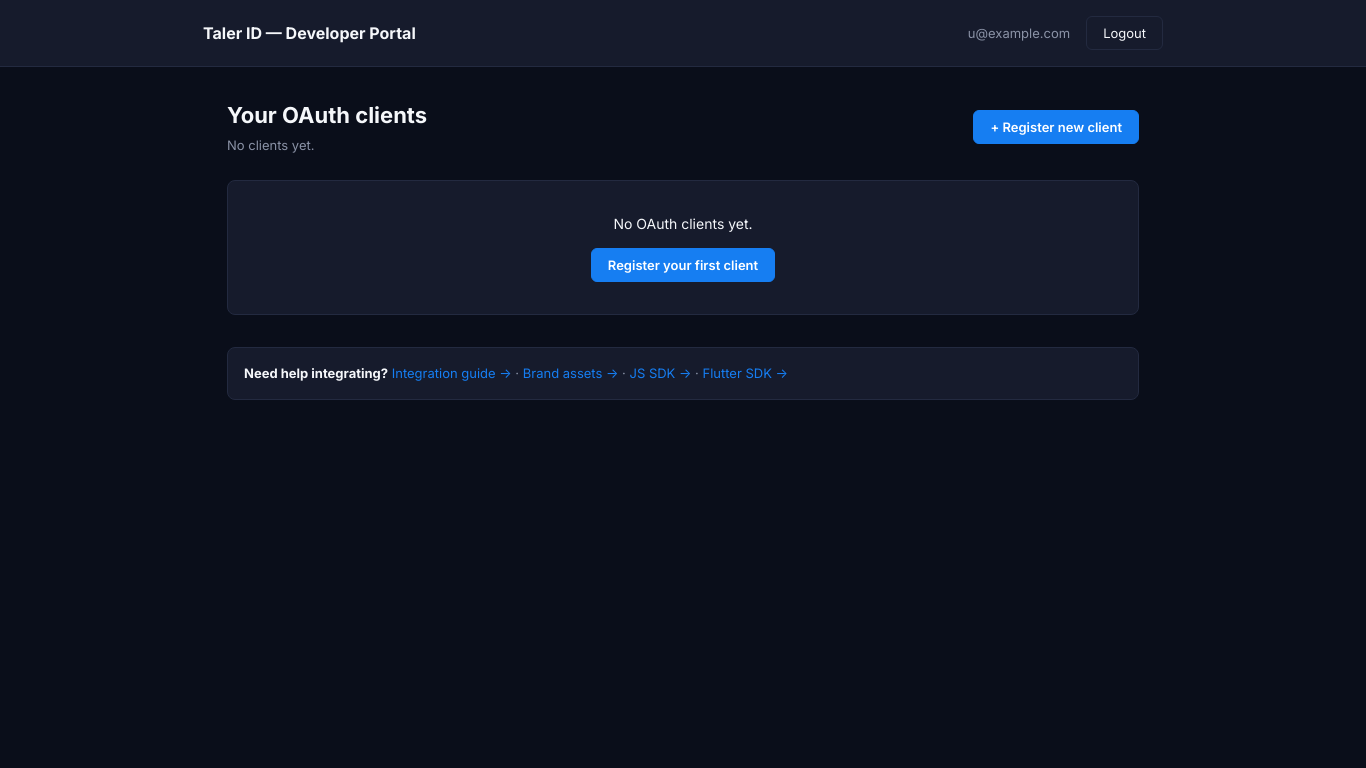
ClientsList › clicking "Register new client" opens the create modal
Click the button "+ Register new client".
click(1056, 127)  # box [974, 110, 1139, 144]
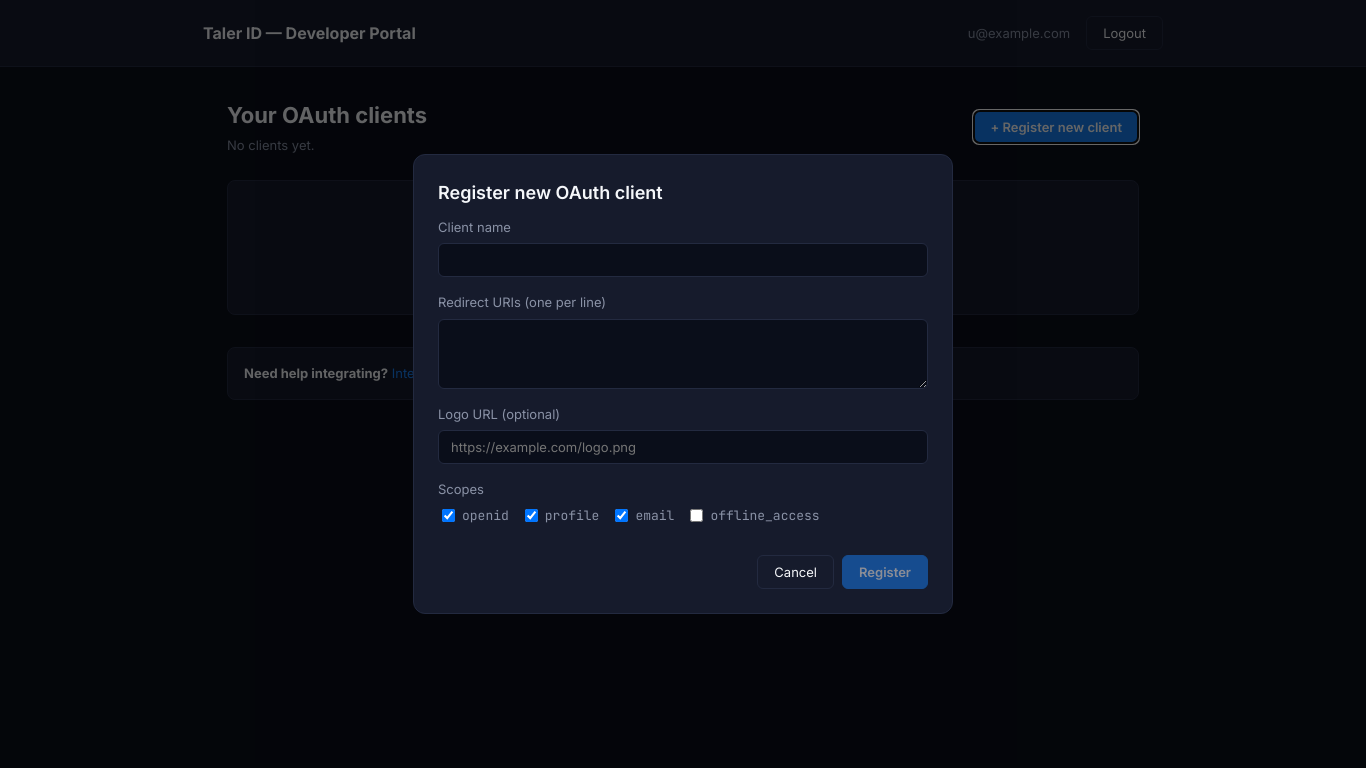
Result: the heading "Register new OAuth client" is shown at [438, 182, 663, 203]
